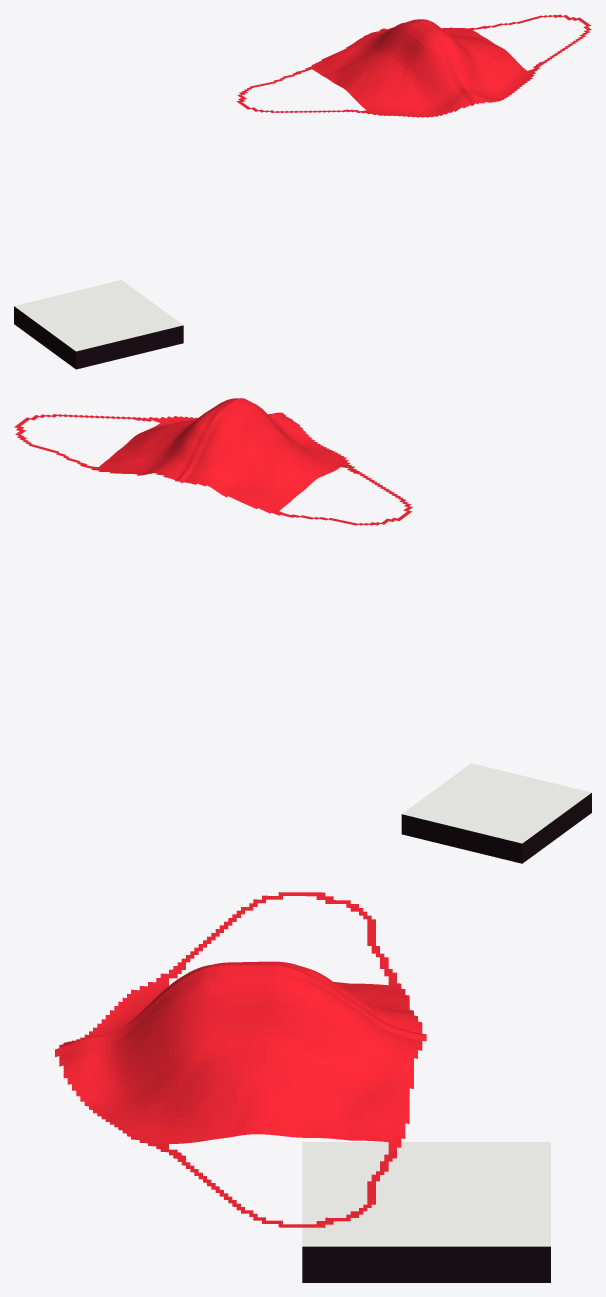
File: redMask.glb
3 views of the same model, one above another, from view 1: azimuth 30°, elevation 25°; view 2: azimuth 150°, elevation 25°; view 3: azimuth 270°, elevation 25° (orthographic). The views are drawn at different scales.
Visible parts, largest first — view 1: Plane.001, Cube; view 2: Plane.001, Cube; view 3: Plane.001, Cube.
Boxes of the visible parts, left/top/right/bottom form: Plane.001: left=236, top=14, right=591, bottom=117; Cube: left=14, top=280, right=183, bottom=369; Plane.001: left=14, top=398, right=412, bottom=525; Cube: left=401, top=763, right=591, bottom=863; Plane.001: left=55, top=892, right=426, bottom=1227; Cube: left=302, top=1142, right=550, bottom=1282.
Bounding box in the file's own units: 11.61 × 5.91 × 4.89.
